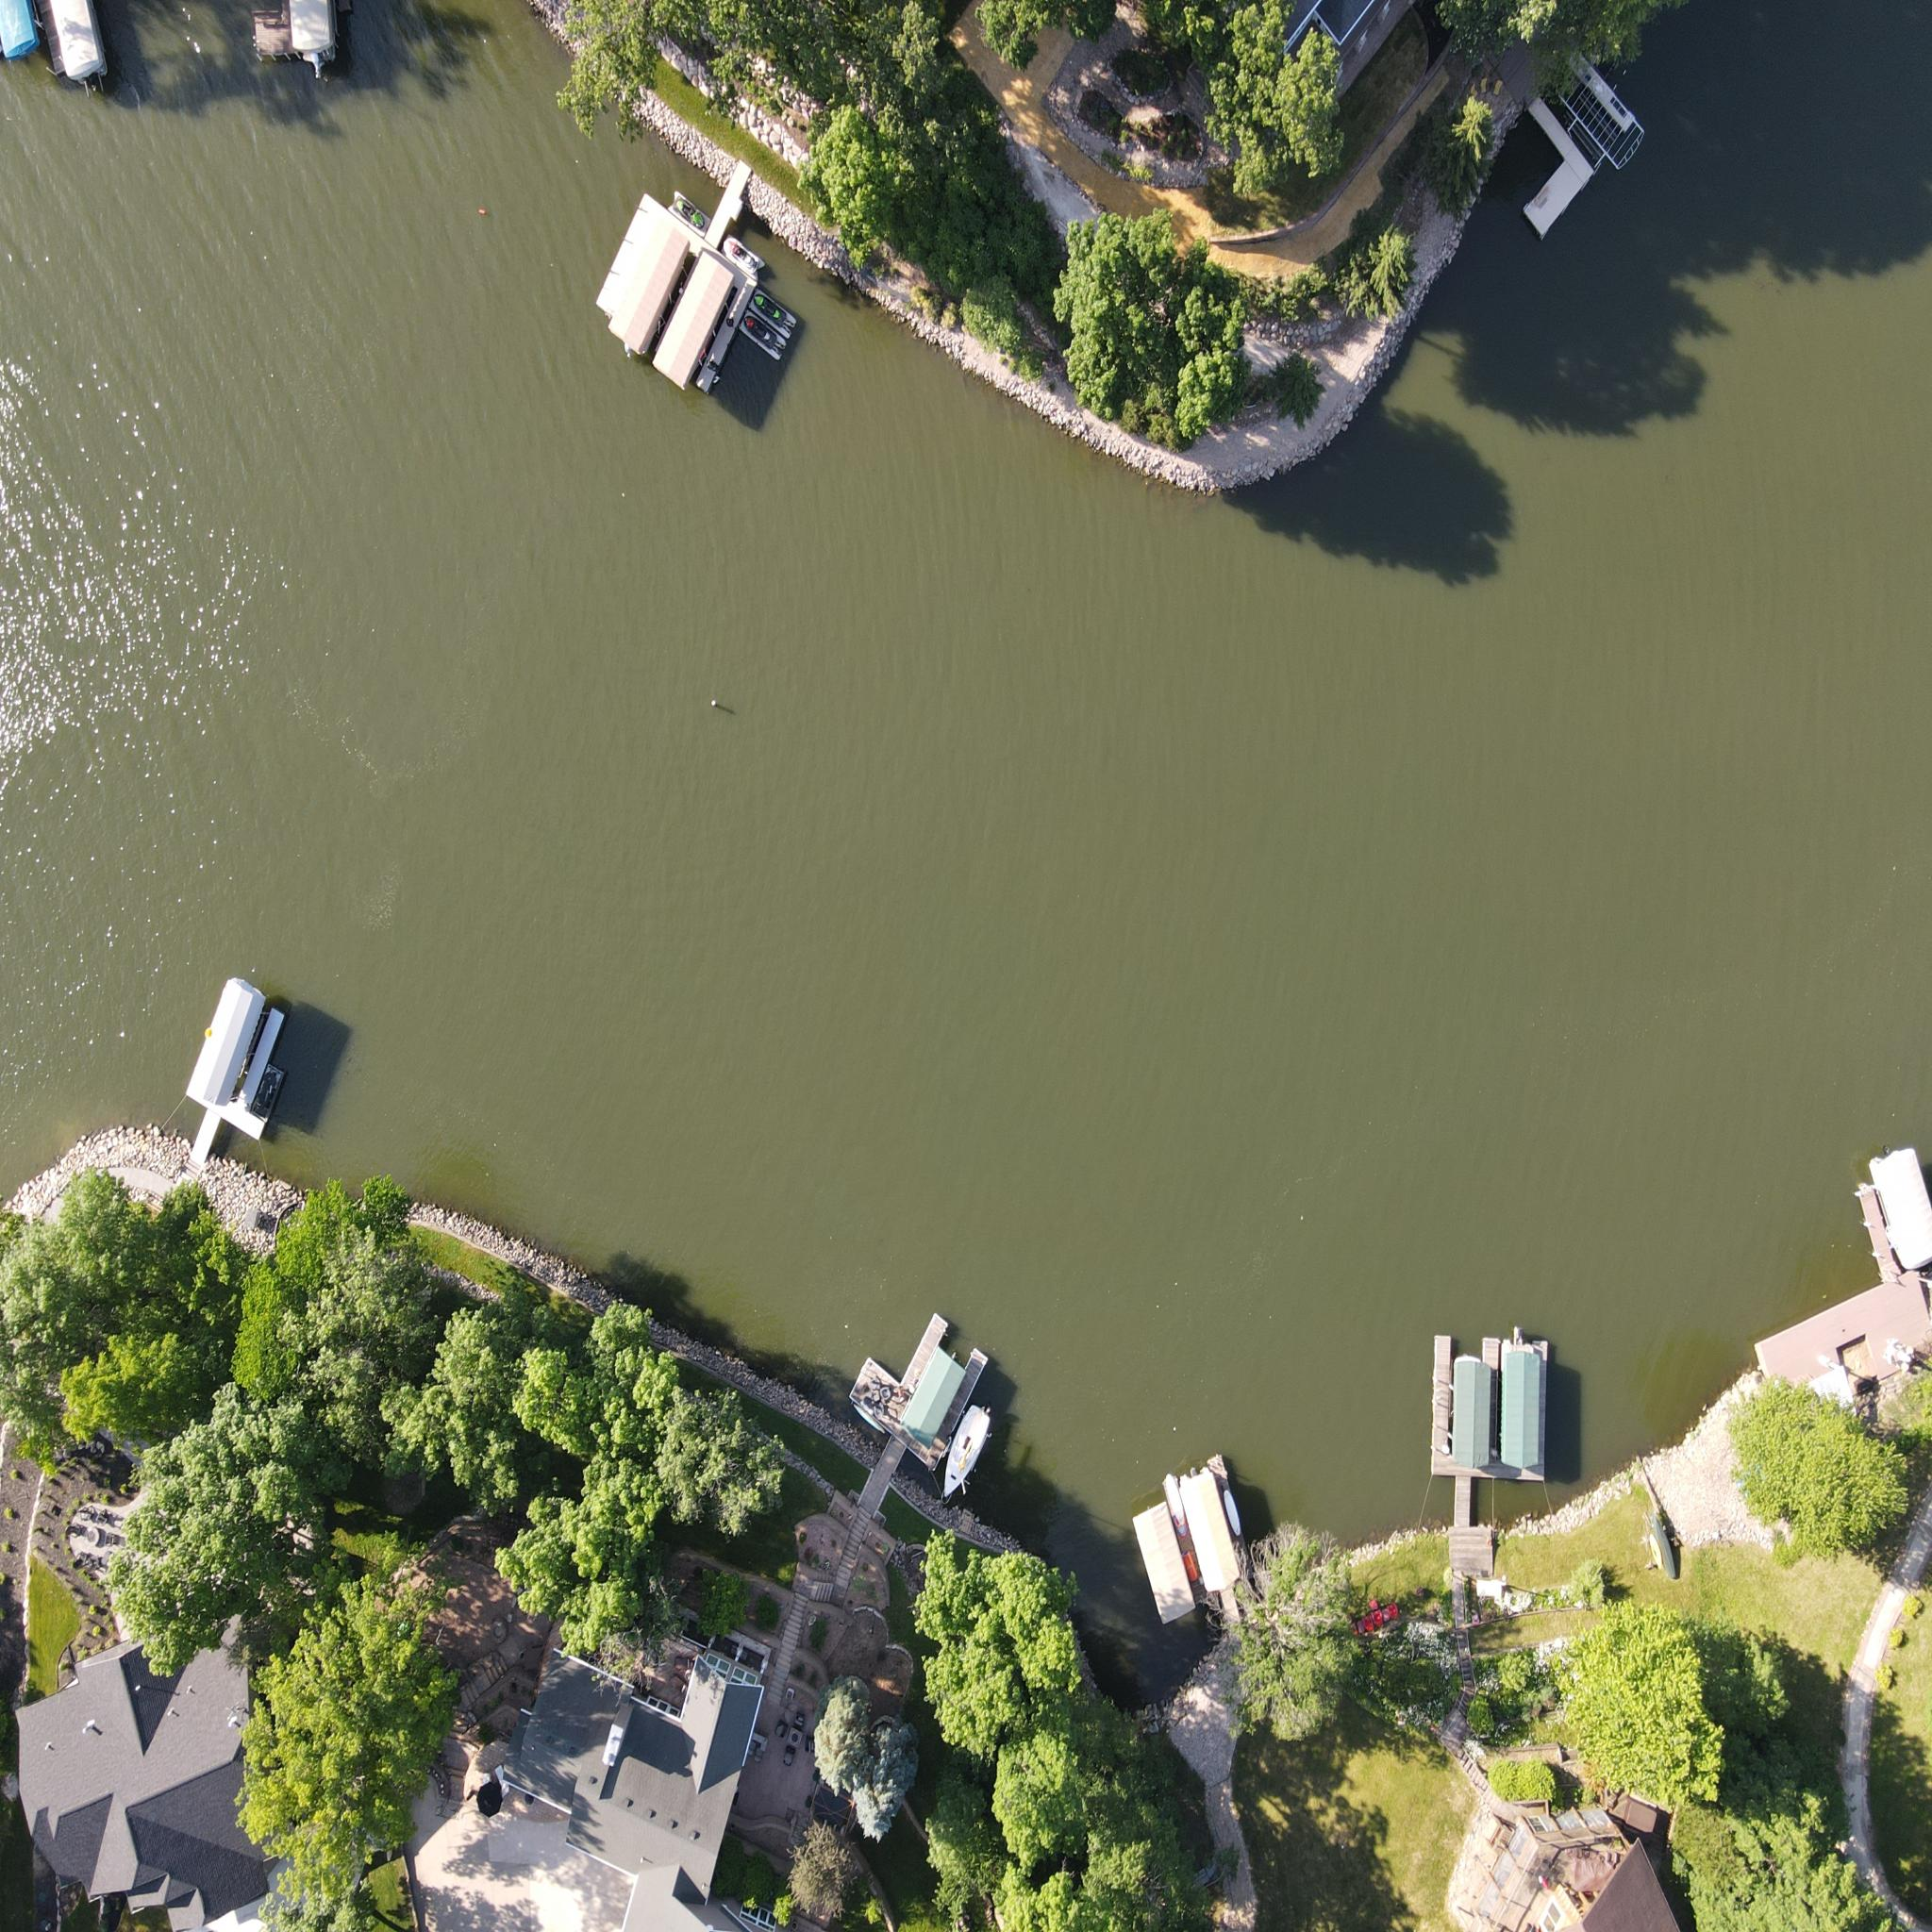boat: (947, 1408, 991, 1499)
dock: (1415, 1306, 1560, 1530), (651, 163, 770, 407), (1159, 1447, 1288, 1628), (878, 1292, 993, 1472), (182, 985, 292, 1161), (1511, 85, 1596, 255), (1847, 1161, 1898, 1299), (32, 2, 81, 92), (242, 2, 303, 71)
jetski: (738, 310, 787, 368), (752, 288, 801, 340), (669, 188, 713, 237), (722, 230, 764, 276)
lift: (1550, 50, 1645, 196), (186, 978, 271, 1116), (663, 242, 729, 395), (617, 209, 678, 352), (1132, 1506, 1201, 1629), (1874, 1136, 1932, 1277), (902, 1350, 971, 1461), (1182, 1476, 1240, 1596), (1500, 1345, 1552, 1477), (1454, 1362, 1495, 1477), (55, 5, 115, 78), (292, 4, 345, 74), (0, 2, 42, 58)
